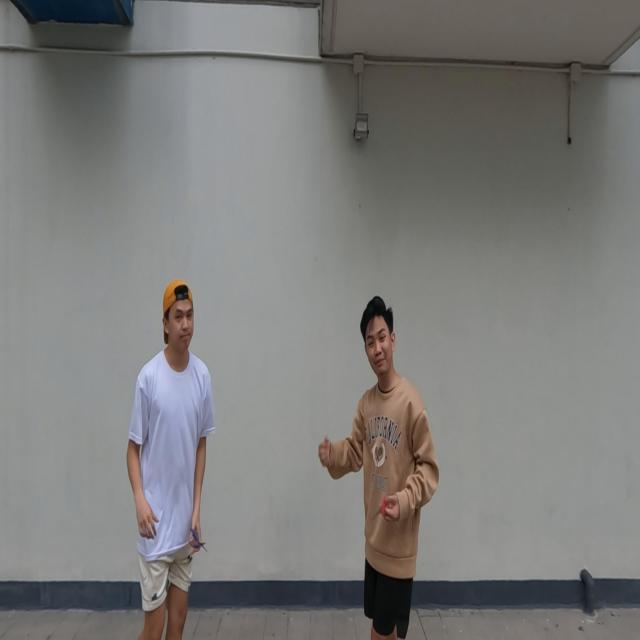scissor: (370, 494, 390, 519), (189, 528, 209, 552)
